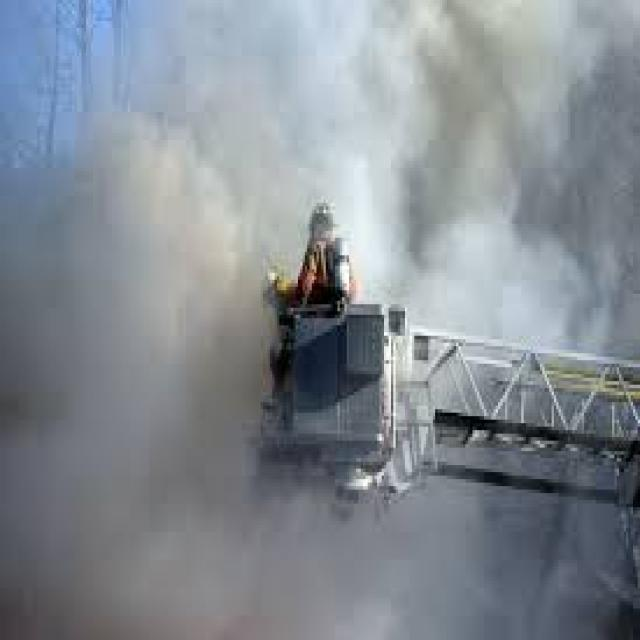Smoke: (0, 128, 258, 640), (370, 0, 627, 323), (239, 454, 609, 640)
